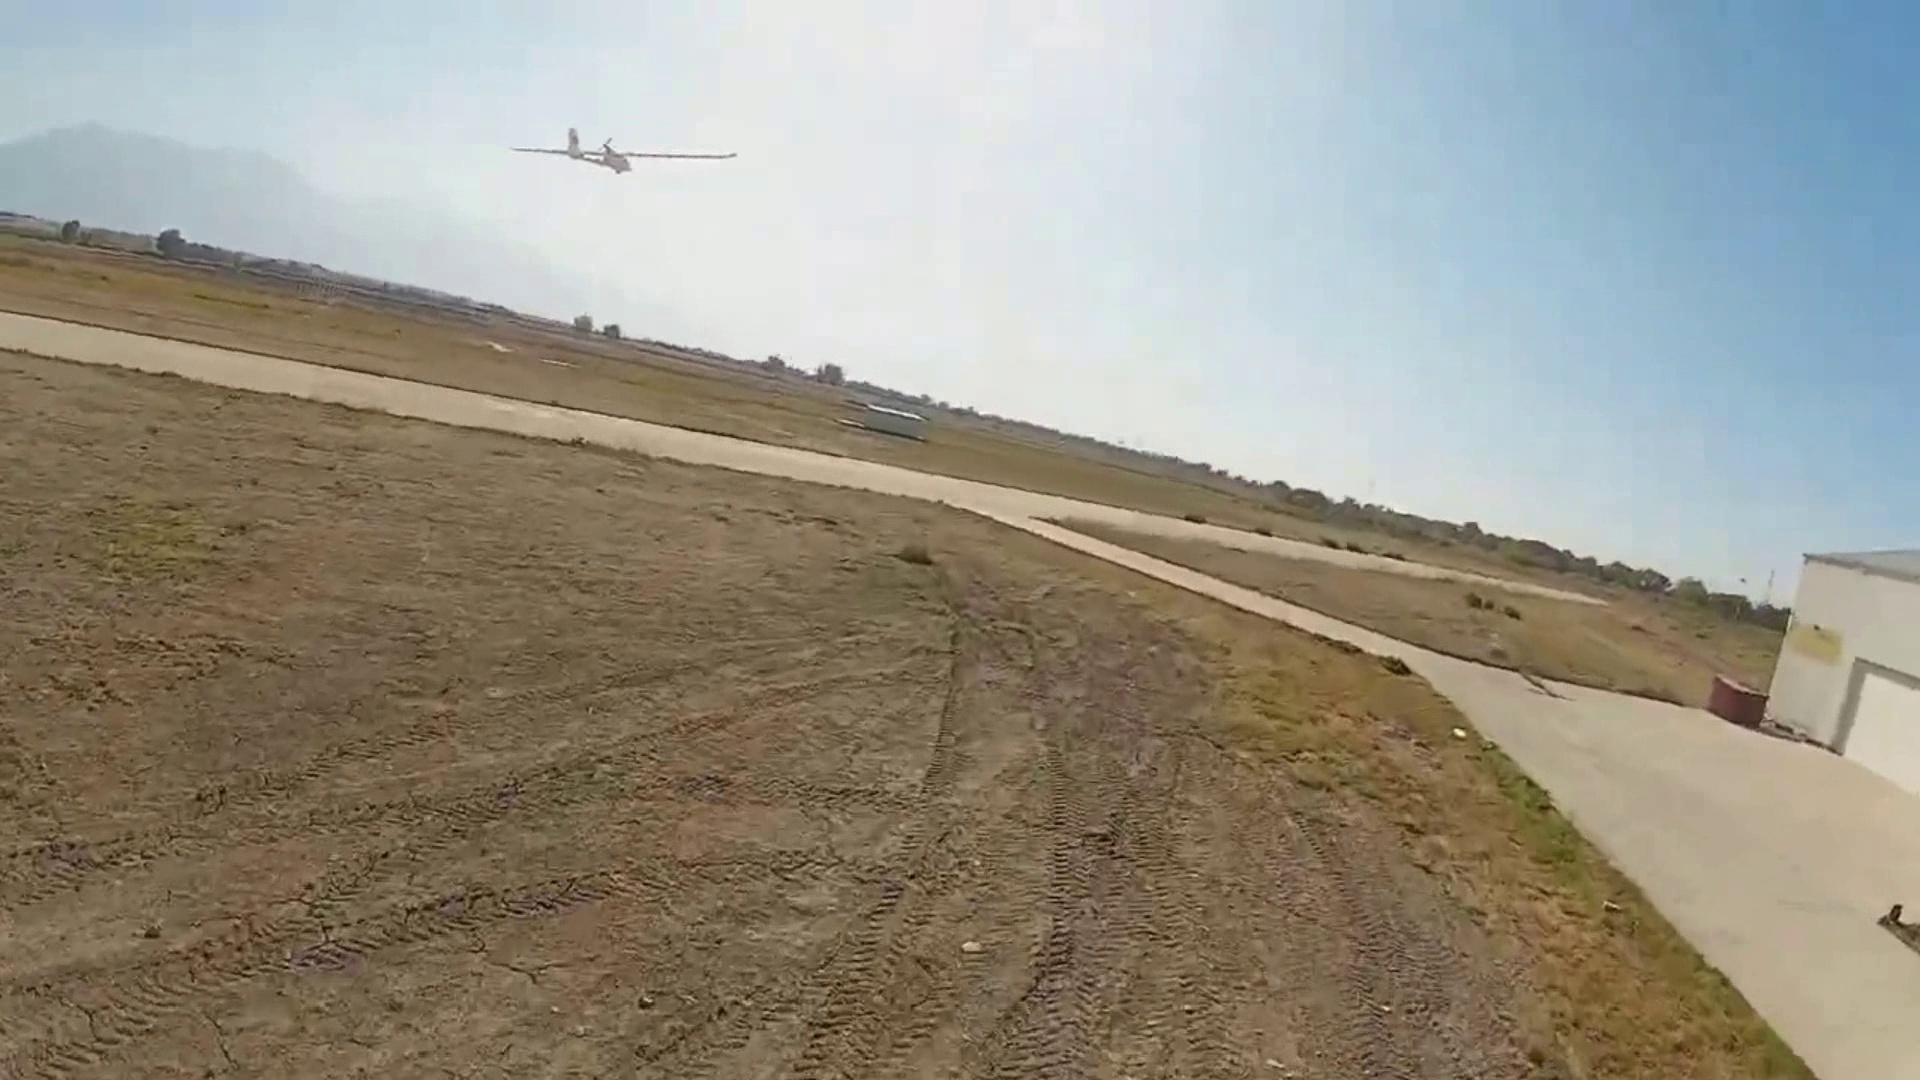airplane: (508, 127, 741, 175)
